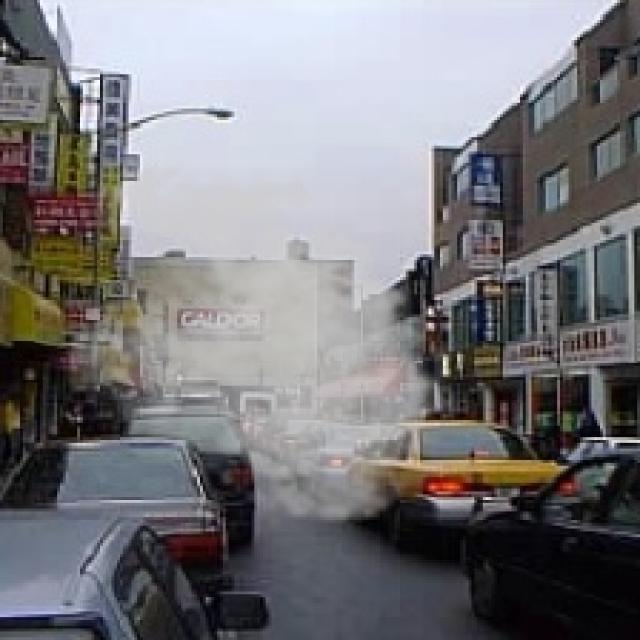smoke: (66, 152, 460, 532)
